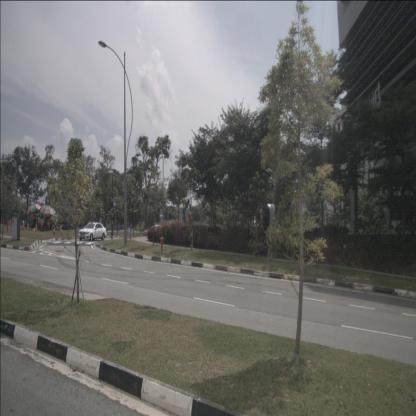cone: (26, 221, 30, 231), (34, 222, 38, 232), (22, 221, 26, 230)
